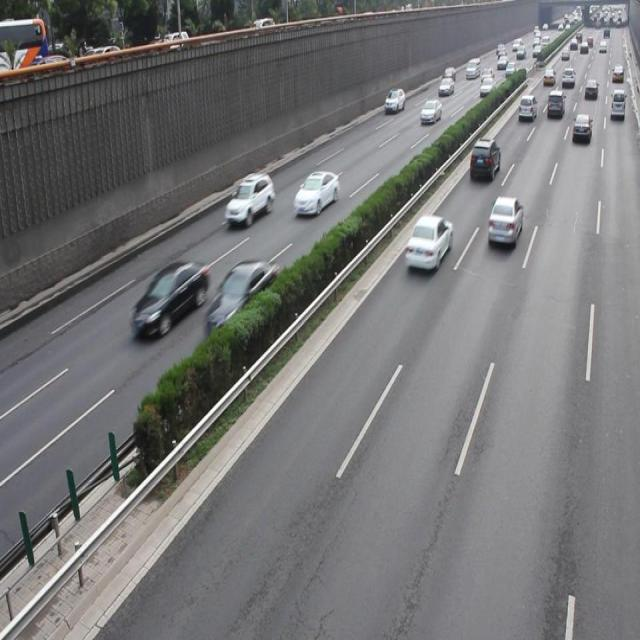car: (131, 258, 210, 337), (202, 258, 278, 337), (404, 212, 451, 273), (224, 171, 274, 226), (293, 167, 339, 217), (487, 195, 522, 247), (468, 136, 500, 182)
